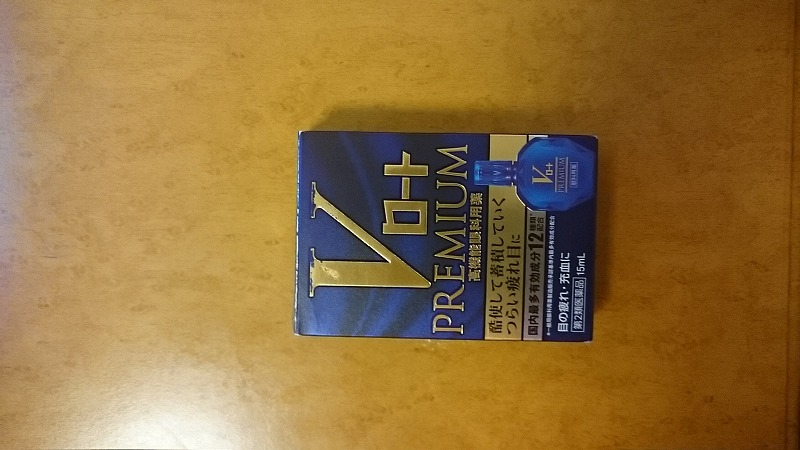D: (286, 124, 601, 350)
